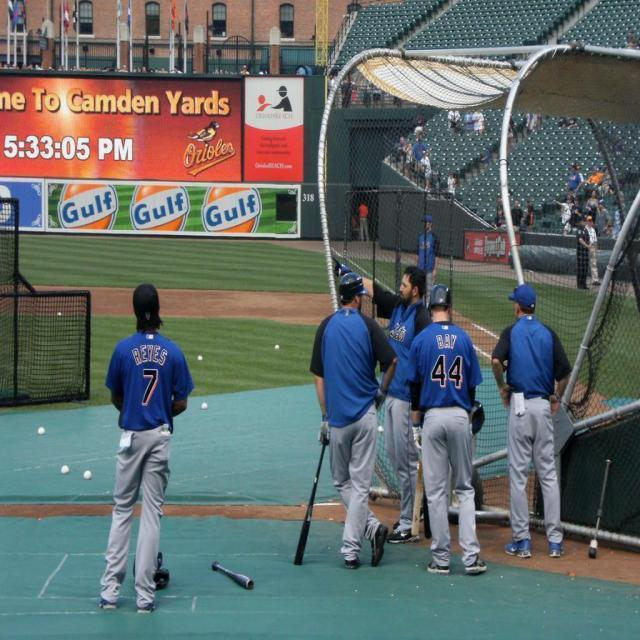ball: (82, 470, 94, 480), (38, 426, 46, 434), (62, 466, 68, 474), (202, 402, 208, 410), (198, 355, 204, 361), (274, 344, 280, 350)
bat: (293, 436, 331, 566), (588, 457, 614, 559), (211, 560, 255, 590)
